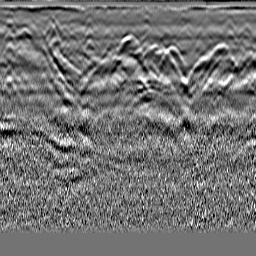cavity: (116, 32, 141, 52)
